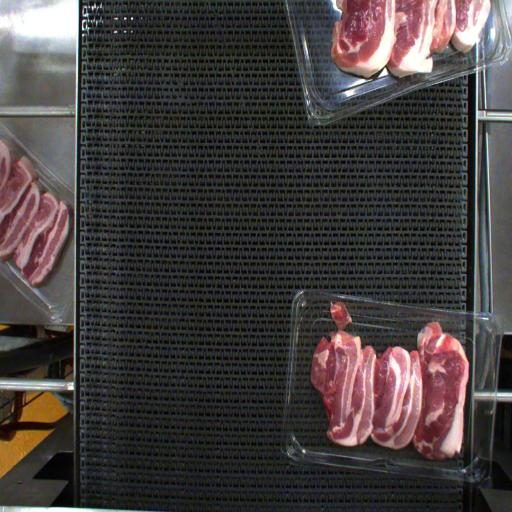loose-meat: (329, 297, 355, 333)
